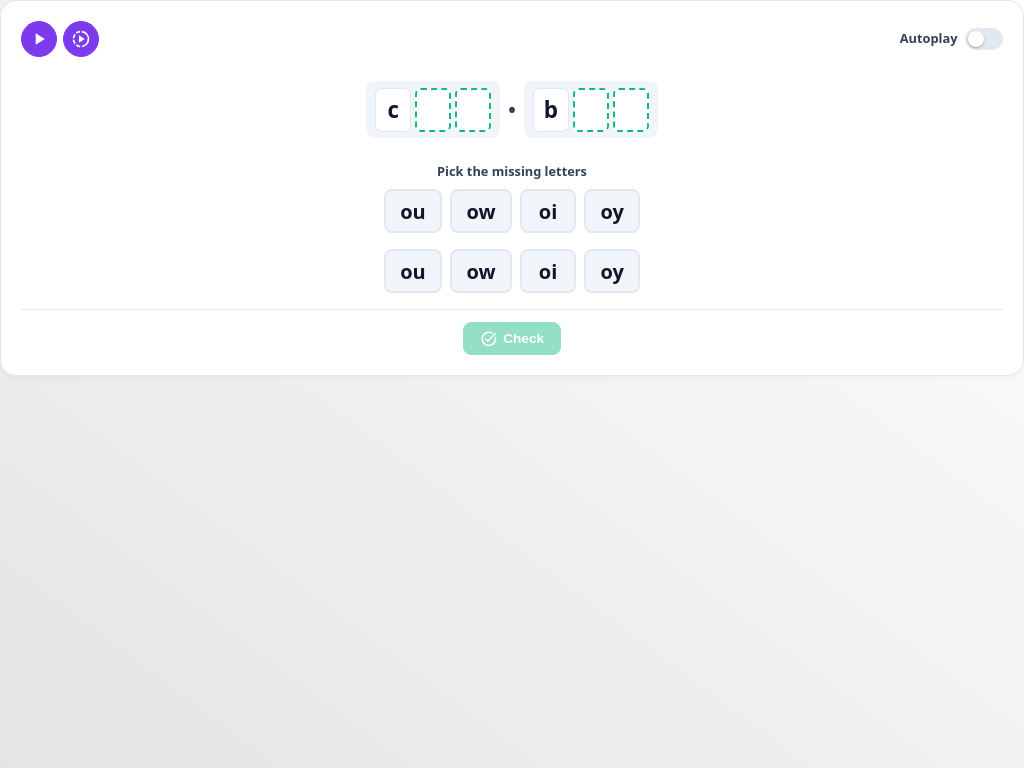
Test case: ChoicePicker › disables Check until every blank has a pick
The width and height of the screenshot is (1024, 768).
Expected: the button with aria-label "Check your answer" is disabled, [463, 322, 561, 355]
Click the 1st button "ou" at x=413, y=211, box [384, 189, 442, 233]
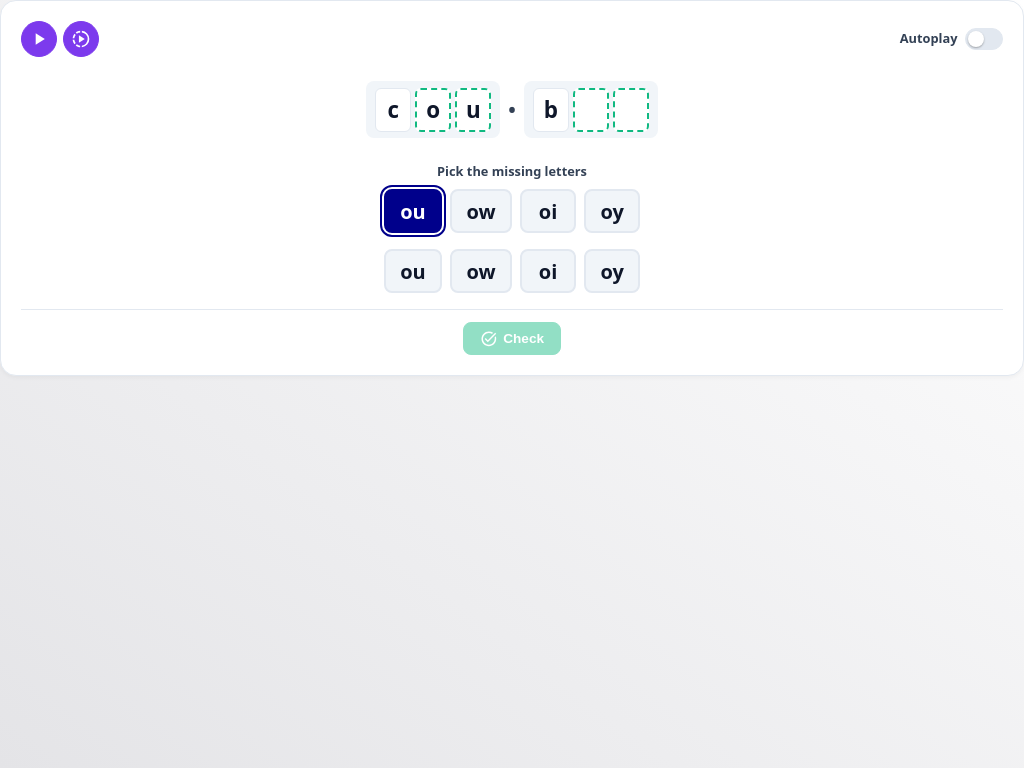
Expected: the button with aria-label "Check your answer" is disabled, [463, 322, 561, 355]
Click the 2nd button "oy" at x=612, y=271, box [584, 249, 640, 293]
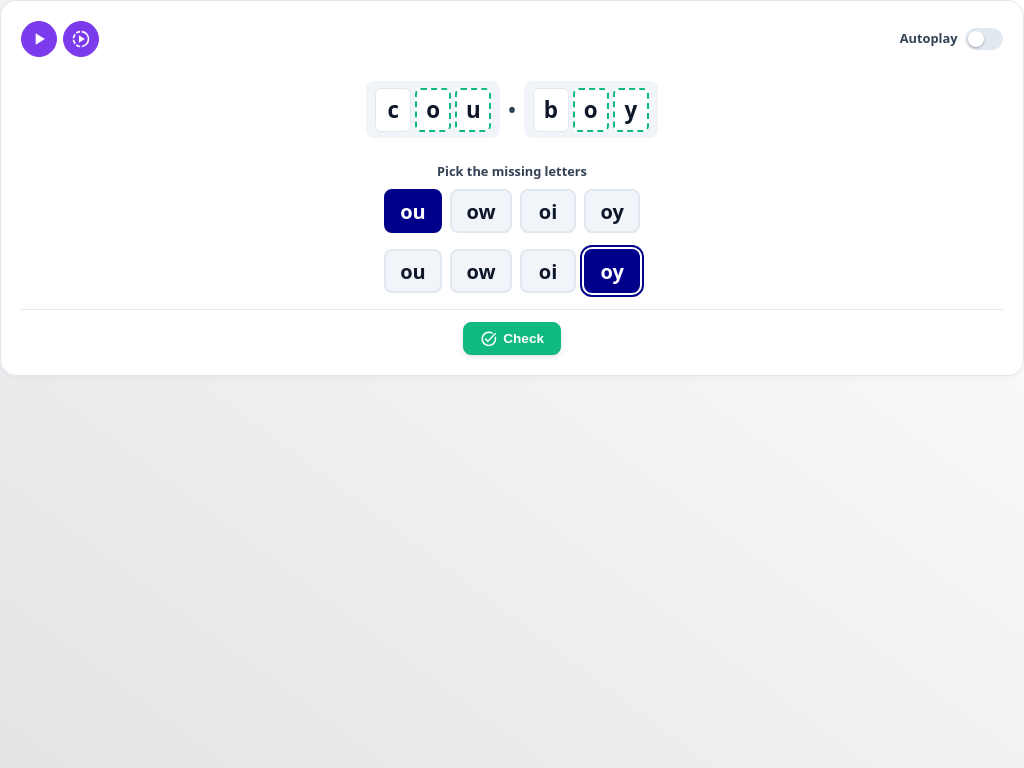
Result: the button with aria-label "Check your answer" is enabled at [463, 322, 561, 355]
